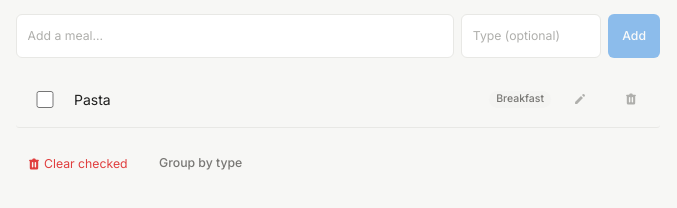
Test: MealPlanView › clicking toggle switches from flat to grouped view
# Toggle on
What coordinates should you click on to do the following:
click the button with test id "group-by-type-toggle"
I would click on:
 (201, 164)
Its box is top-left (145, 142), bottom-right (256, 186).
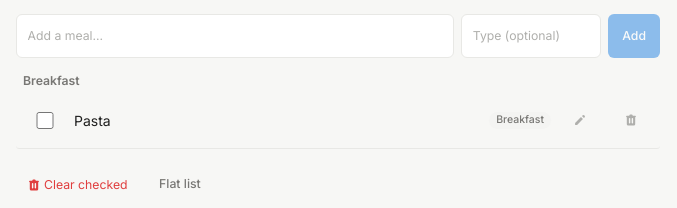
Result: the heading "Breakfast" is shown at top-left (23, 73), bottom-right (80, 88)
